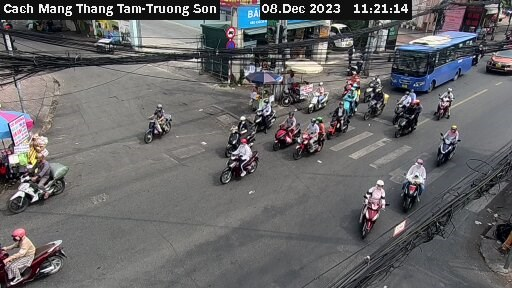bus: (390, 29, 475, 92)
car: (487, 44, 512, 76)
motorbike: (2, 235, 70, 284), (5, 171, 80, 213), (348, 188, 395, 235), (220, 145, 270, 180), (139, 108, 186, 139), (396, 173, 428, 214), (432, 132, 470, 165), (395, 111, 430, 146), (327, 107, 362, 140), (247, 101, 285, 131), (292, 127, 329, 157), (225, 119, 261, 148), (434, 90, 464, 122), (365, 93, 390, 119), (272, 120, 298, 145), (336, 93, 366, 112), (366, 77, 390, 100), (309, 89, 332, 111), (339, 75, 365, 93), (392, 97, 413, 118)
